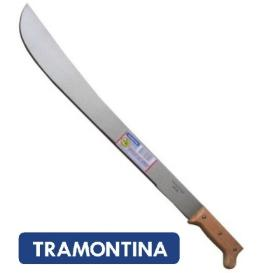MACHETTE: (19, 1, 259, 268)
